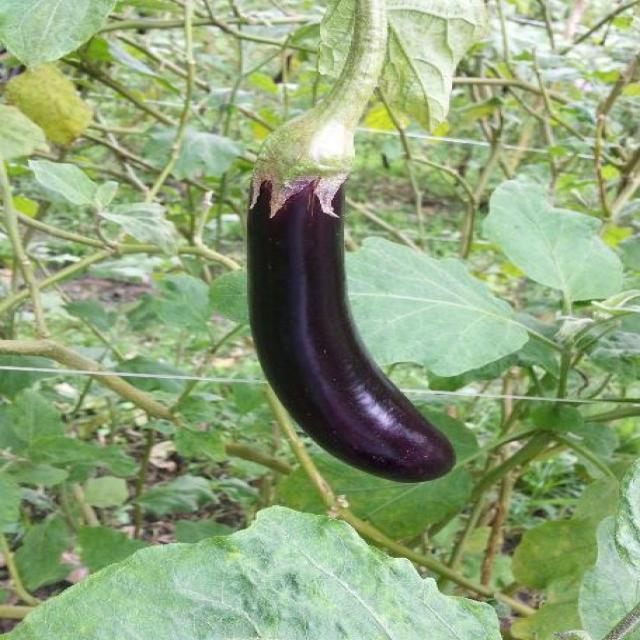eggplant: (244, 113, 460, 487)
